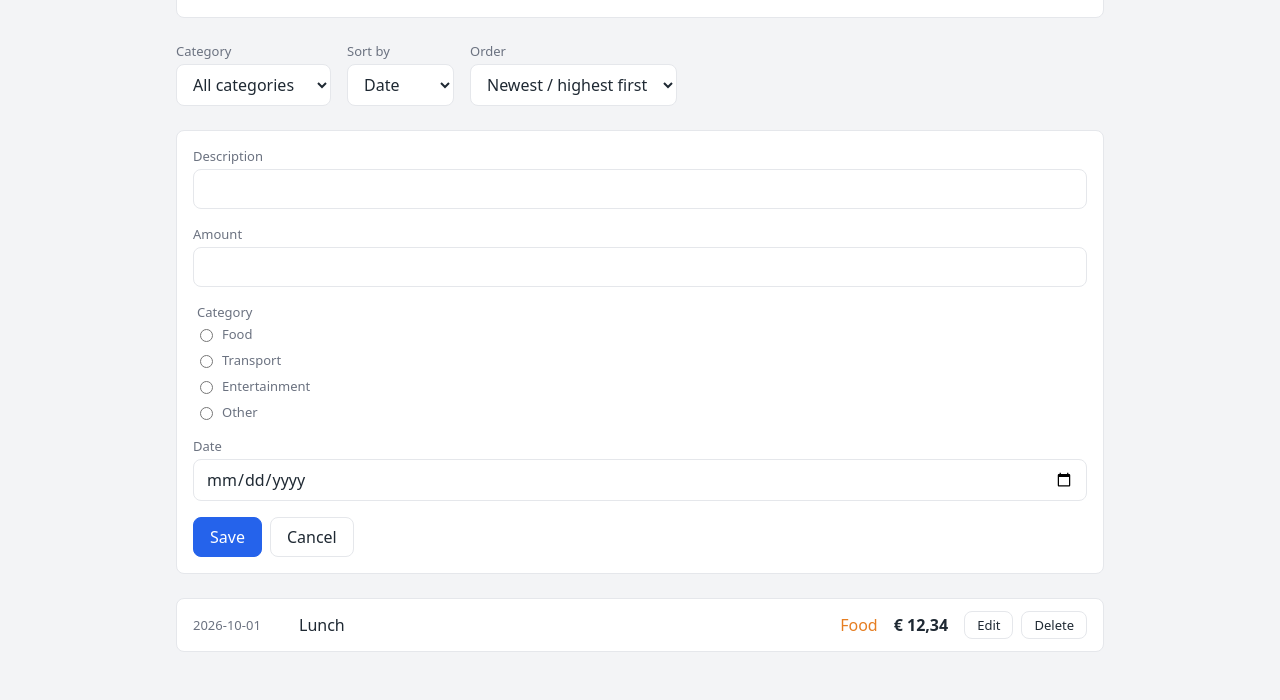
Test case: App › prefills the form when editing
(page scrolled)
Click the button "Edit". click: (989, 625)
box: [964,611,1014,639]
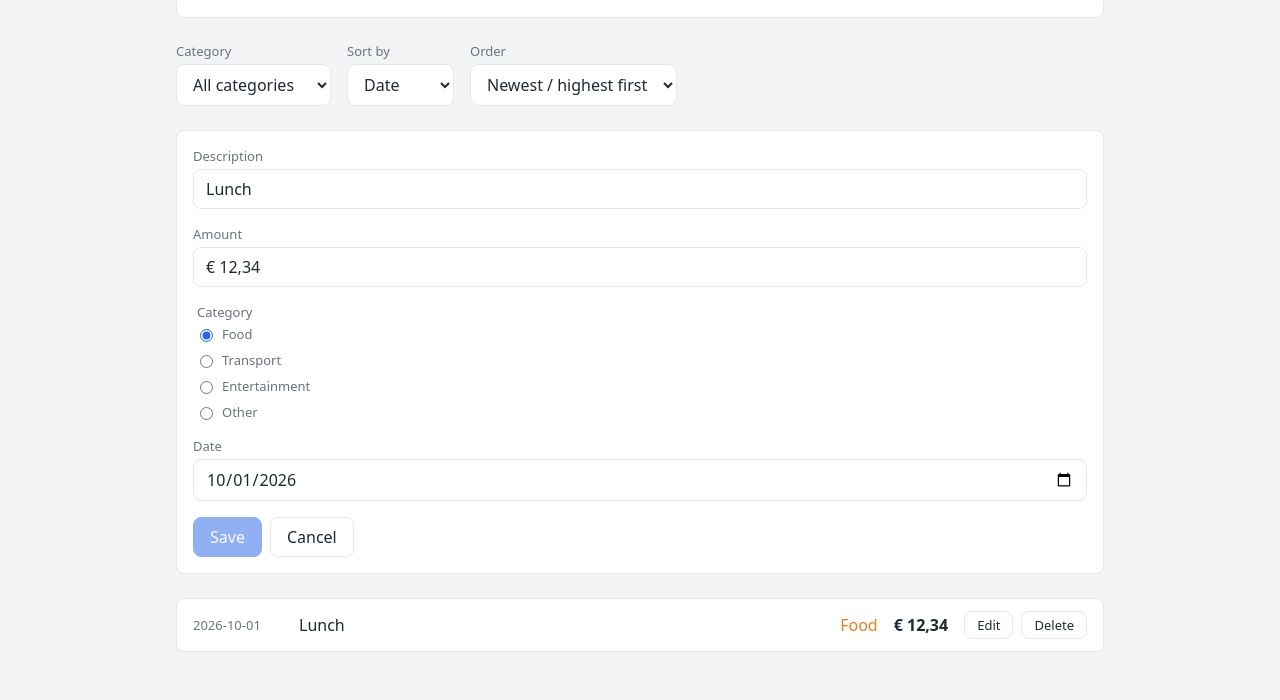
expect the field with id "expense-description" holds "Lunch": met, box [193,169,1087,209]
expect the date field with id "expense-date" holds "2026-10-01": met, box [193,459,1087,501]
